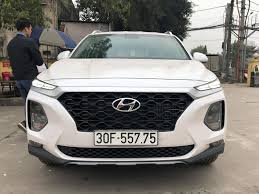Car number plates: (94, 130, 158, 146)
